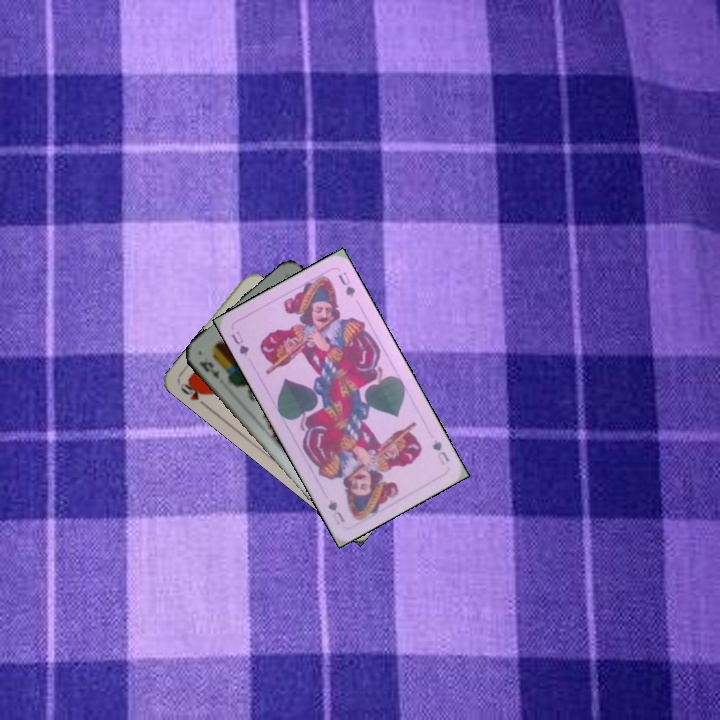EK: (195, 357, 222, 381)
GU: (227, 327, 252, 359), (428, 436, 452, 468)
HO: (176, 377, 210, 410)
